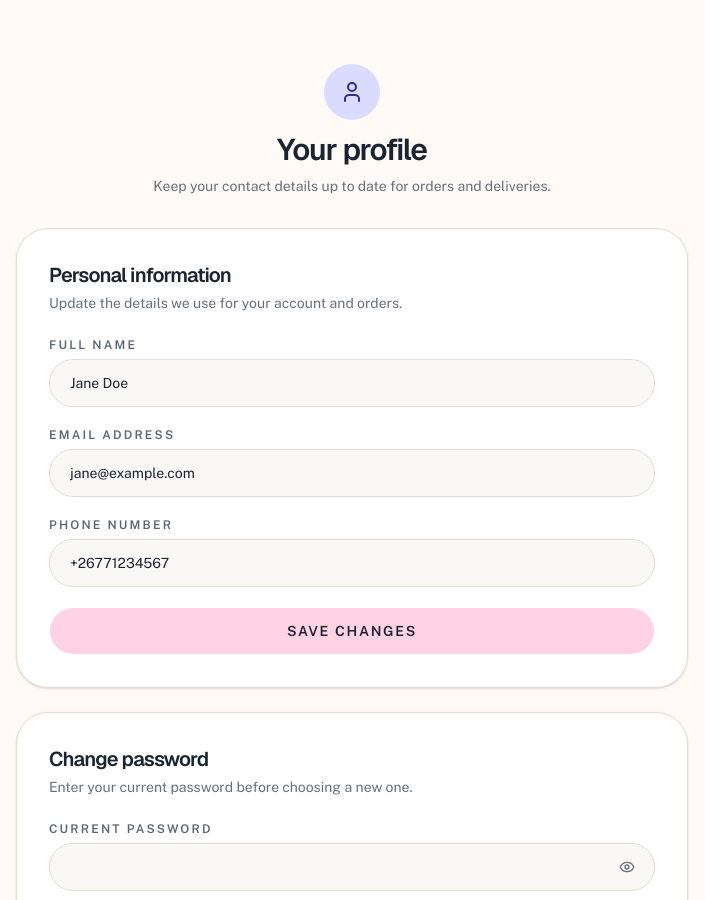
Test case: Profile page › lets signed-in customers change their password
Type "oldpass123" into the password field labelled "Current password". click: (352, 867)
box: [49,843,655,891]
(page scrolled)
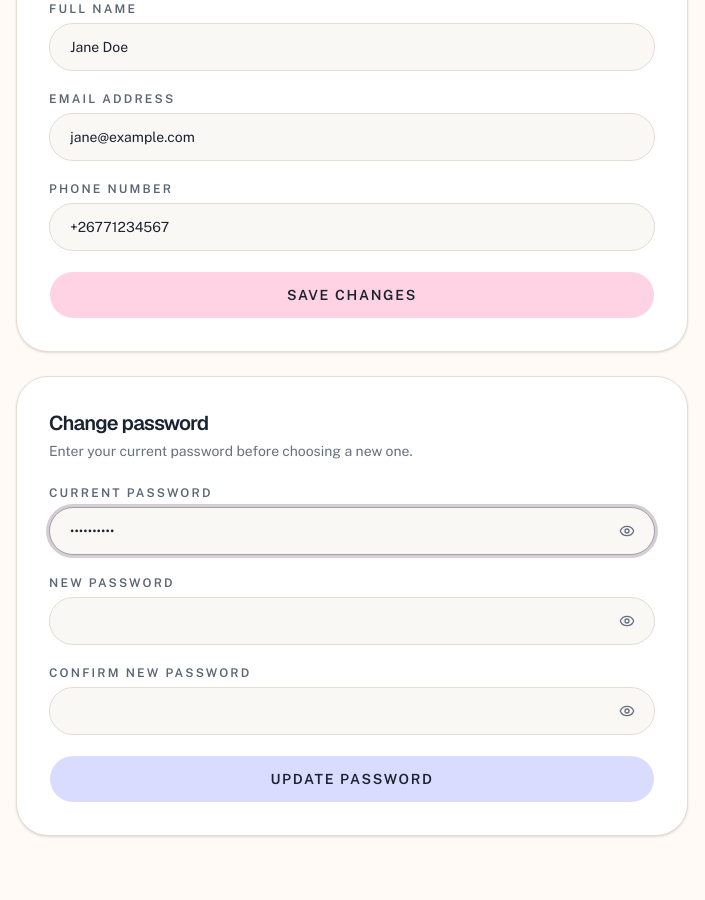
Type "newpass123" into the password field labelled "New password". click: (352, 621)
box: [49,597,655,645]
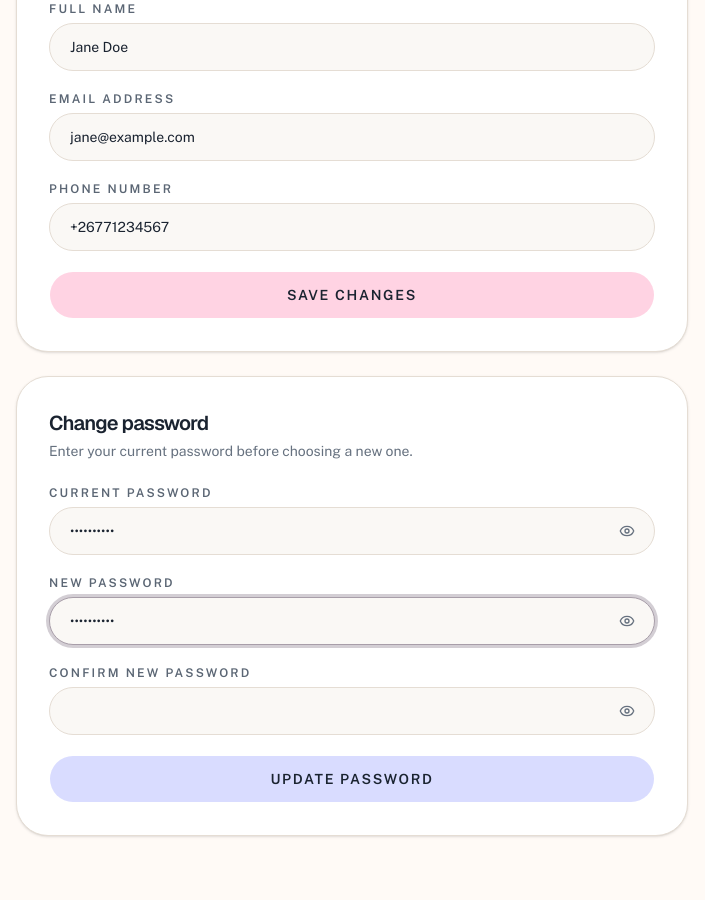
Type "newpass123" into the password field labelled "Confirm new password". click: (352, 711)
box: [49,687,655,735]
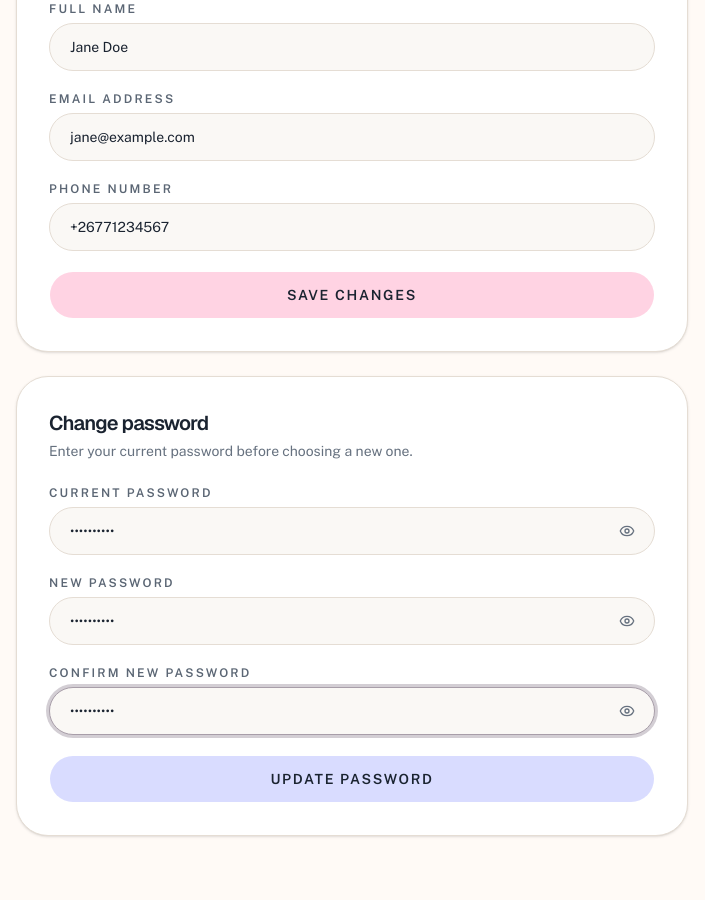
Click the button "Update password". click: click(352, 779)
box: [49,755,655,803]
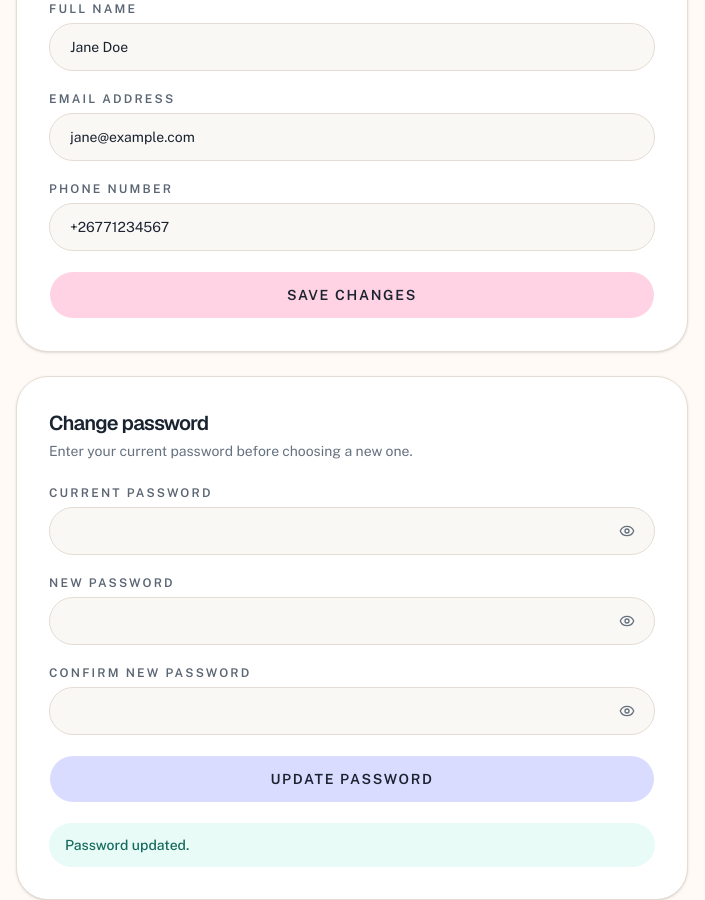
Expected: the text "Password updated." is shown, [49,823,655,867]
